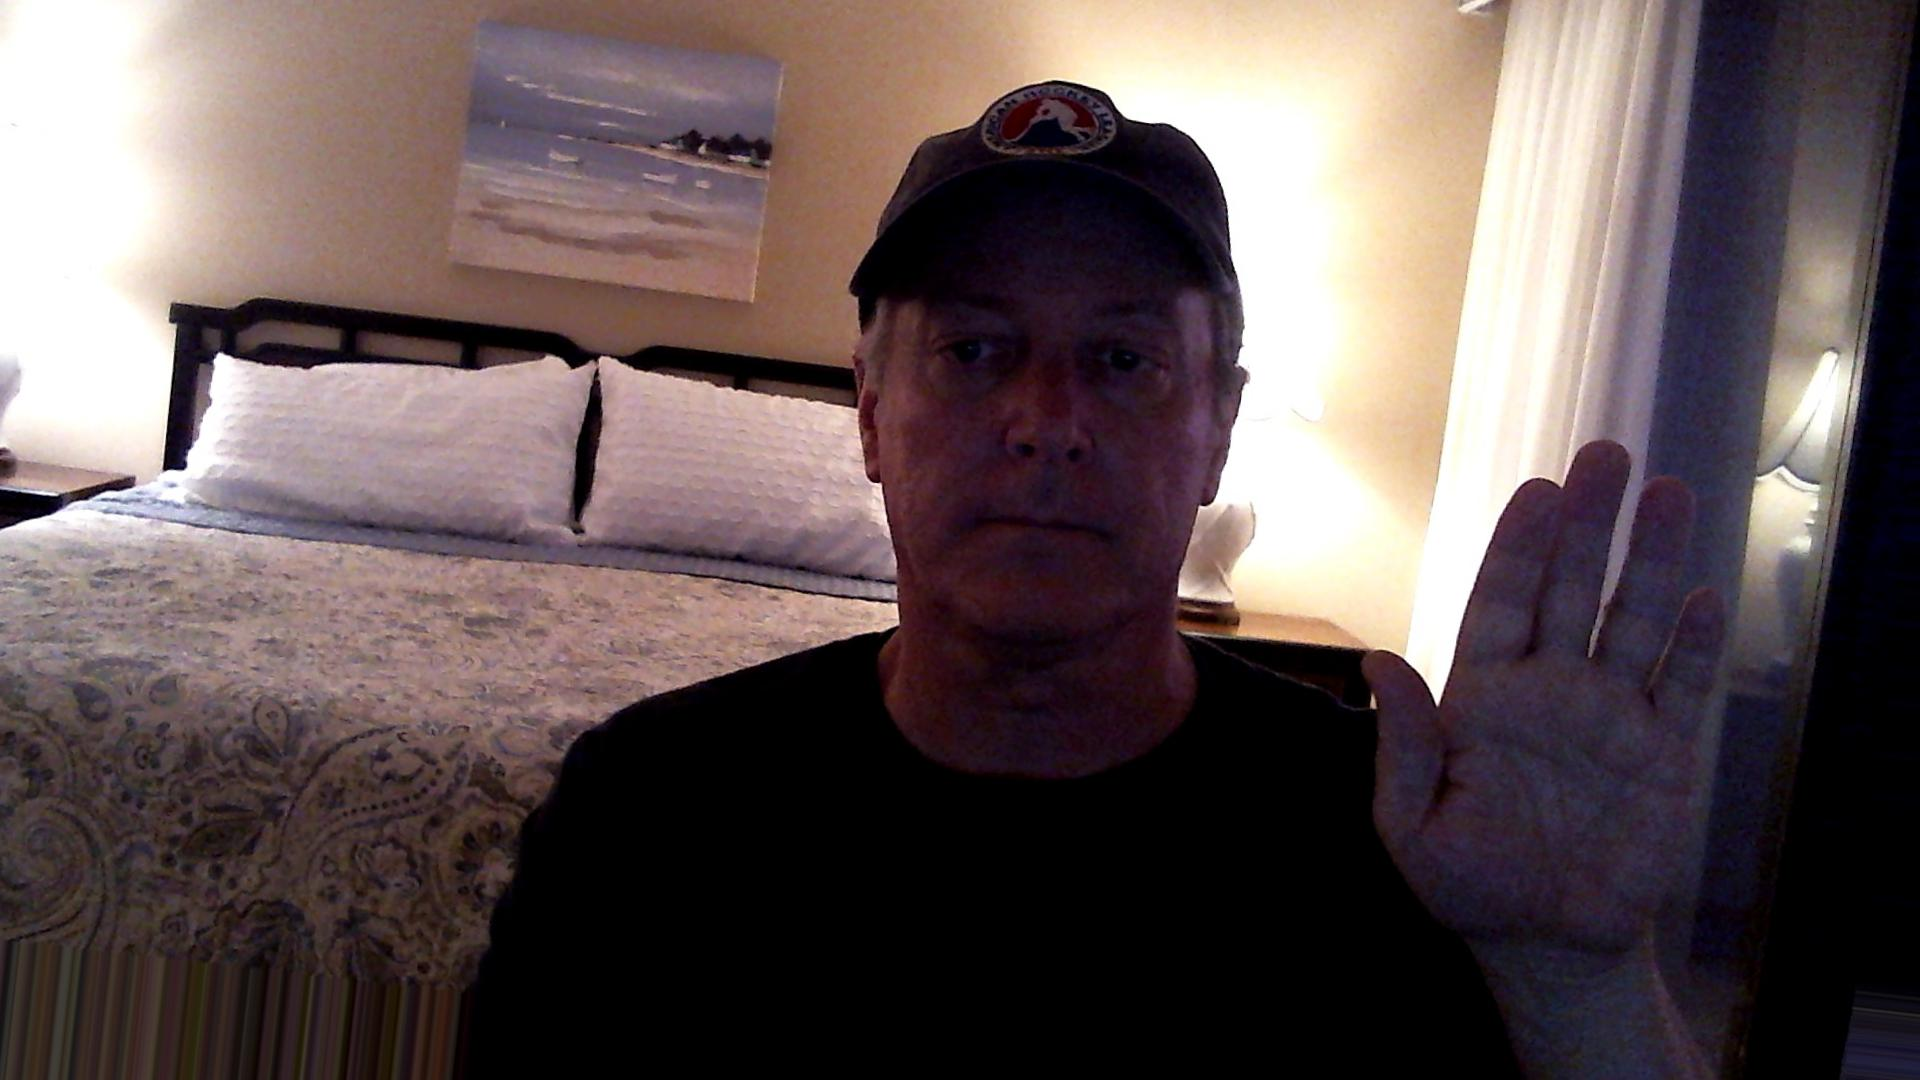Hello: (1346, 417, 1758, 982)
